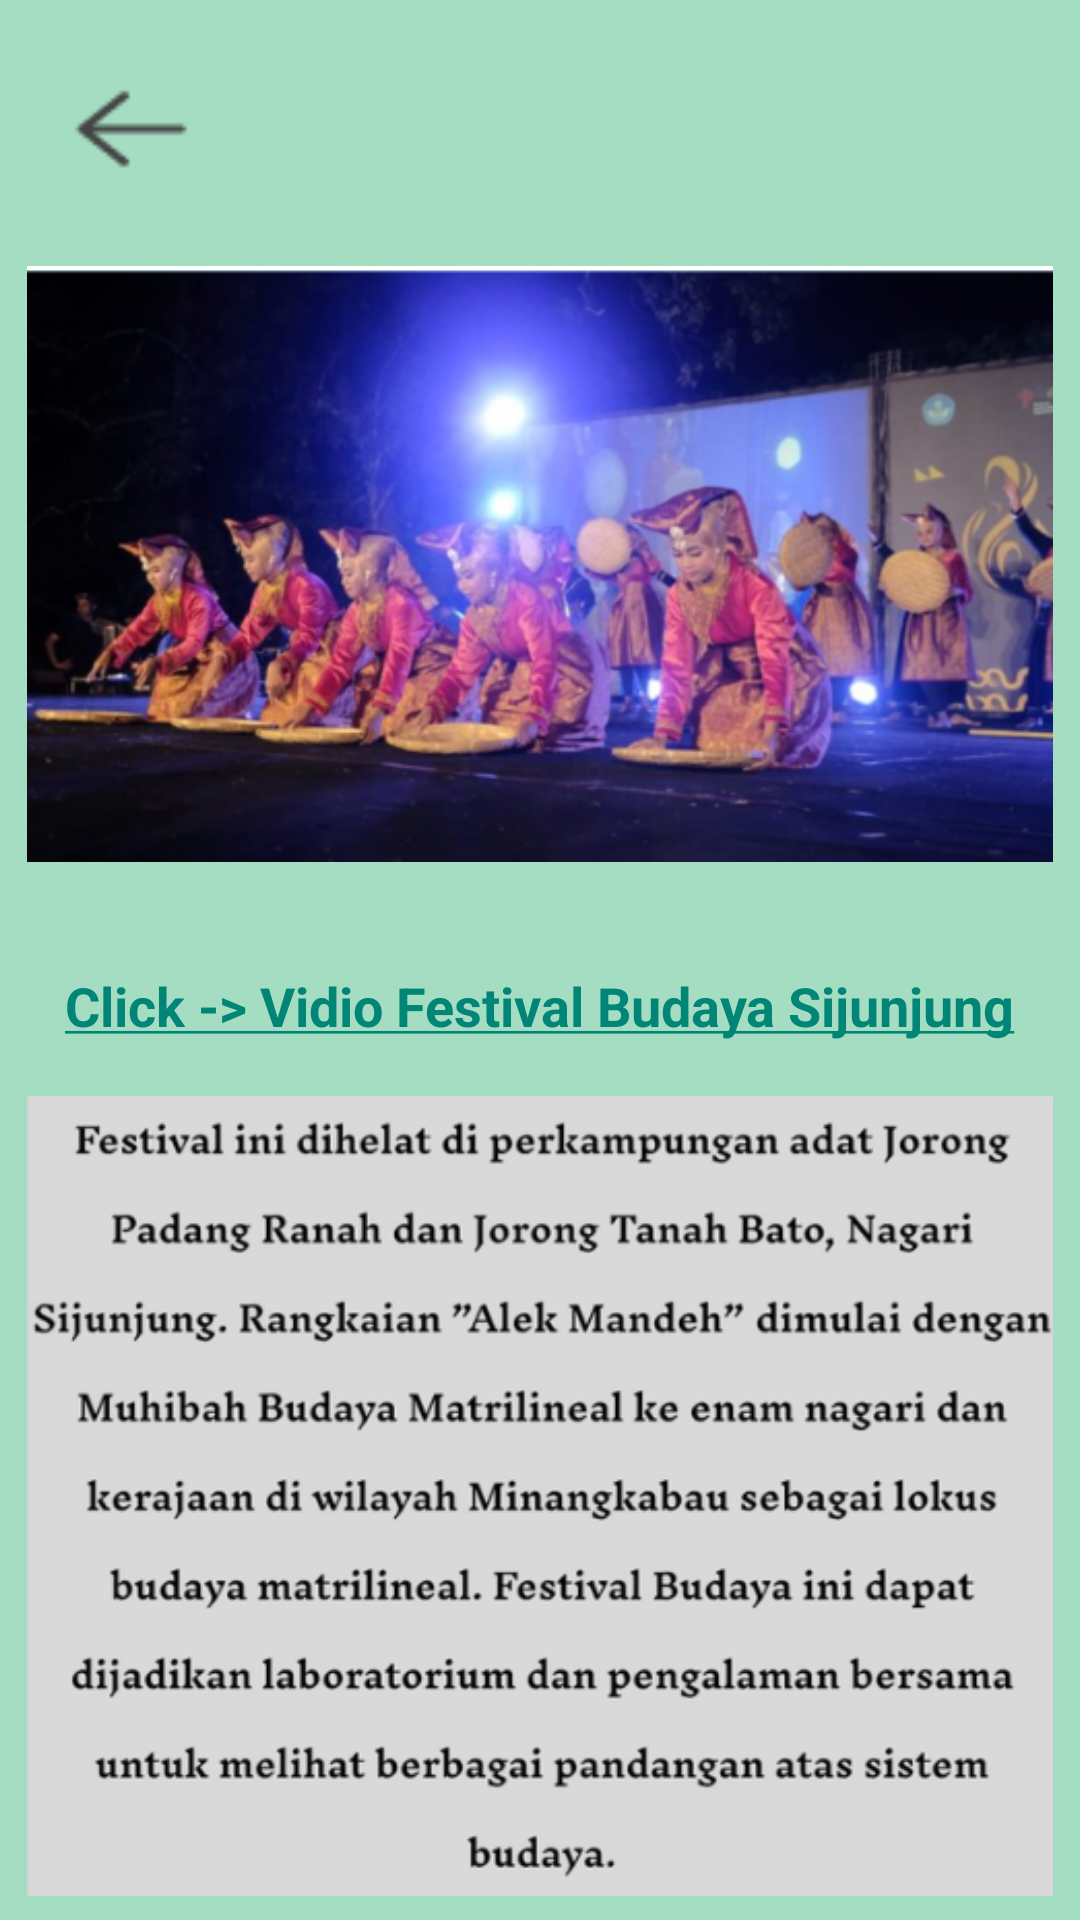

Screen size 1080*1920. Icon name, then its center in pixels as (x,y):
back: (131,129)
